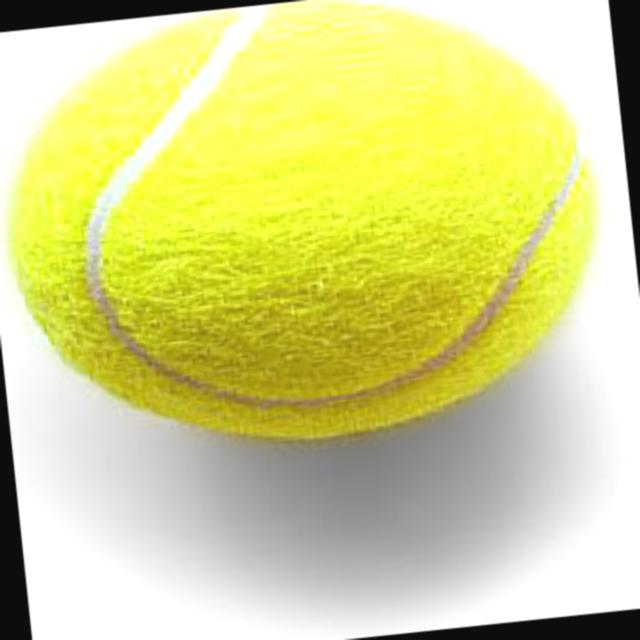Tennis Ball: (2, 0, 596, 447)
